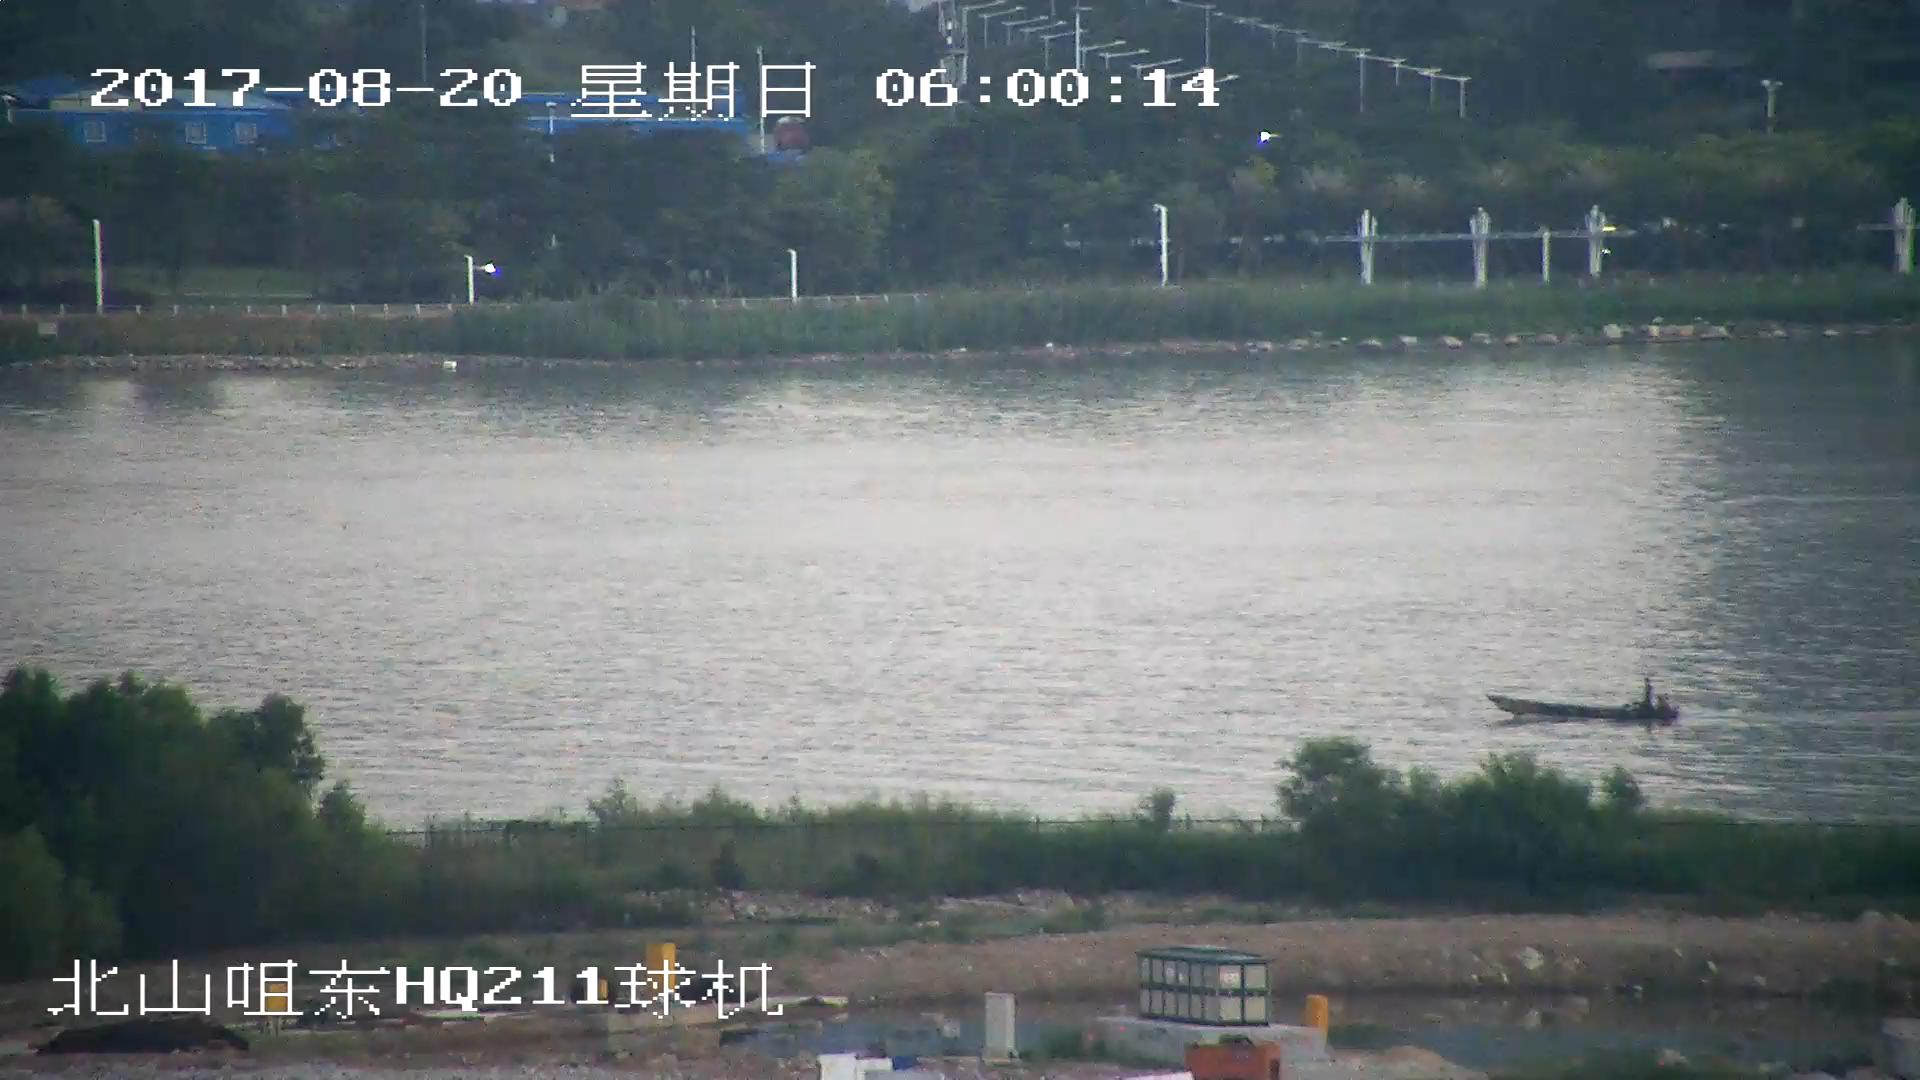fishing boat: (1488, 680, 1676, 723)
